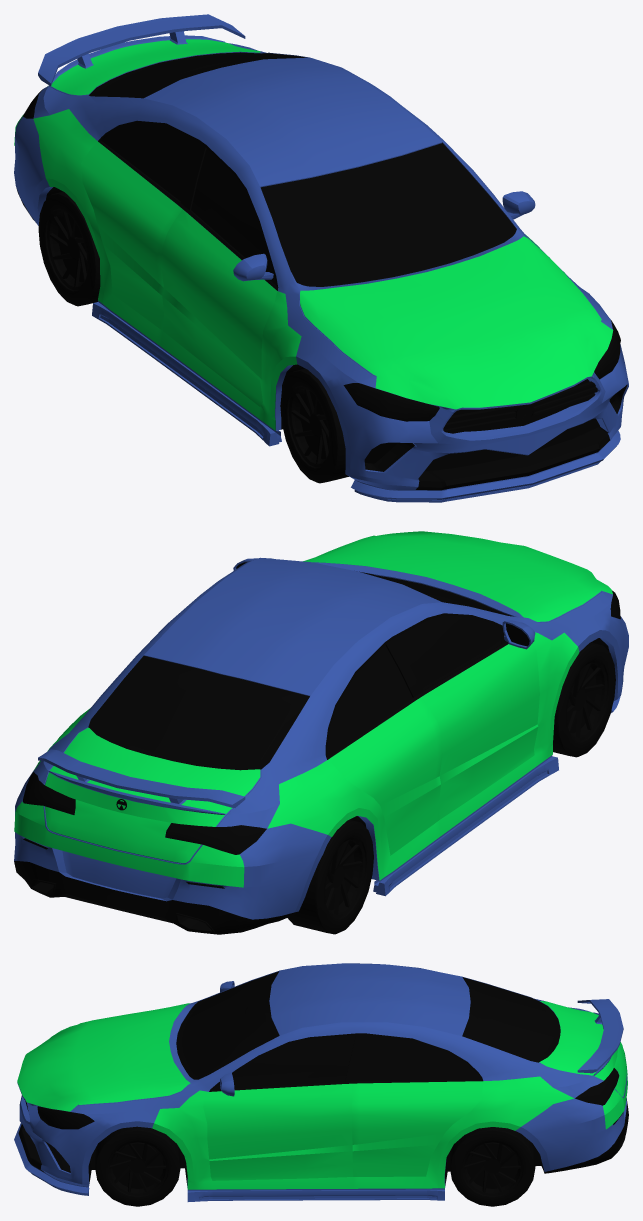
The model's file is ClaModif.fbx.
The picture shows the model from 3 angles, top to bottom: view 1: azimuth 30°, elevation 25°; view 2: azimuth 150°, elevation 25°; view 3: azimuth 270°, elevation 25°; orthographic projection. The views are drawn at different scales.
Visible parts, largest first — view 1: Cla_Modify:polySurface1113z, Cla_Modify:Cla_Sticker_Front, Cla_Modify:Cla_Sticker_Side, Cla_Modify:Cla_Skirt2, Cla_Modify:onteker222z, Cla_Modify:arkateker222z, Cla_Modify:Cla_Sticker_Back, Cla_Modify:Cla_Spoiler1, Cla_Modify:Cla_Skirt1, Cla_Modify:Cla_Spoiler2; view 2: Cla_Modify:polySurface1113z, Cla_Modify:Cla_Sticker_Side, Cla_Modify:Cla_Sticker_Back, Cla_Modify:Cla_Sticker_Front, Cla_Modify:arkateker222z, Cla_Modify:onteker222z, Cla_Modify:Cla_Skirt2, Cla_Modify:Cla_Spoiler1, Cla_Modify:Cla_Spoiler2; view 3: Cla_Modify:polySurface1113z, Cla_Modify:Cla_Sticker_Side, Cla_Modify:Cla_Sticker_Front, Cla_Modify:onteker3333z, Cla_Modify:arkateker111z, Cla_Modify:Cla_Sticker_Back, Cla_Modify:Cla_Skirt2, Cla_Modify:Cla_Spoiler1.
Part boxes in pixels (<box>): Cla_Modify:polySurface1113z: <box>14,43,628,490</box>; Cla_Modify:Cla_Sticker_Front: <box>300,236,613,409</box>; Cla_Modify:Cla_Sticker_Side: <box>33,109,565,430</box>; Cla_Modify:Cla_Skirt2: <box>92,300,620,499</box>; Cla_Modify:onteker222z: <box>280,368,348,483</box>; Cla_Modify:arkateker222z: <box>38,191,100,306</box>; Cla_Modify:Cla_Sticker_Back: <box>14,39,260,145</box>; Cla_Modify:Cla_Spoiler1: <box>38,14,245,86</box>; Cla_Modify:Cla_Skirt1: <box>276,430,599,502</box>; Cla_Modify:Cla_Spoiler2: <box>49,35,225,85</box>; Cla_Modify:polySurface1113z: <box>14,557,628,934</box>; Cla_Modify:Cla_Sticker_Side: <box>34,632,579,880</box>; Cla_Modify:Cla_Sticker_Back: <box>14,727,260,887</box>; Cla_Modify:Cla_Sticker_Front: <box>303,531,612,621</box>; Cla_Modify:arkateker222z: <box>287,819,373,934</box>; Cla_Modify:onteker222z: <box>553,642,615,757</box>; Cla_Modify:Cla_Skirt2: <box>376,697,620,896</box>; Cla_Modify:Cla_Spoiler1: <box>38,749,245,807</box>; Cla_Modify:Cla_Spoiler2: <box>48,771,225,814</box>; Cla_Modify:polySurface1113z: <box>17,963,628,1187</box>; Cla_Modify:Cla_Sticker_Side: <box>152,1076,574,1189</box>; Cla_Modify:Cla_Sticker_Front: <box>17,1003,190,1111</box>; Cla_Modify:onteker3333z: <box>95,1126,180,1206</box>; Cla_Modify:arkateker111z: <box>450,1127,535,1206</box>; Cla_Modify:Cla_Sticker_Back: <box>539,1001,627,1129</box>; Cla_Modify:Cla_Skirt2: <box>14,1123,444,1201</box>; Cla_Modify:Cla_Spoiler1: <box>577,999,623,1073</box>.
Size of the model in its own units: 164 by 121 by 399.
